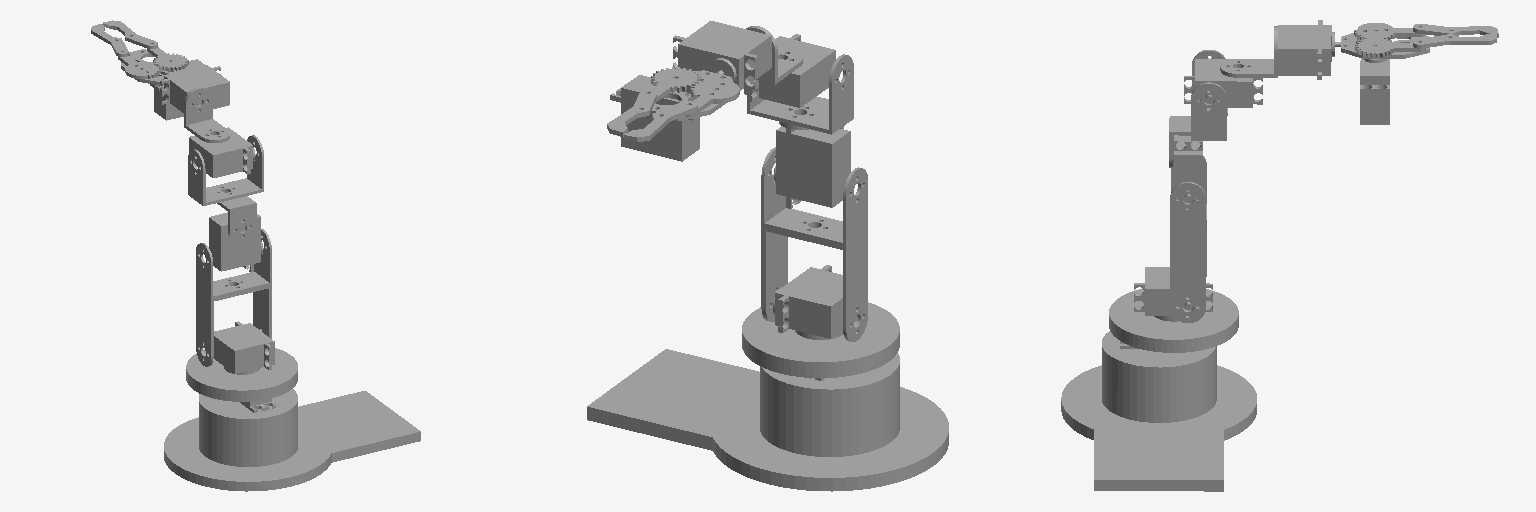
--- Facts derived from the render (not from the file) ---
The picture shows the robot from 3 angles, left to right: view 1: azimuth 30°, elevation 25°; view 2: azimuth 150°, elevation 25°; view 3: azimuth 270°, elevation 25°; orthographic projection.
Model rbmuse with 18 links and 17 joints (7 revolute, 10 fixed), rooted at base_link, posed all joints at 0.
Visible links, largest first — view 1: base_link, disk_1, motor2_1, smallu1_1, smallu_1, bigu_1, motor3_1, motor5_1, motor4_1, lshape2_1, lshape_1, motor6_1 (+3 smaller); view 2: base_link, disk_1, motor3_1, bigu_1, smallu_1, motor5_1, motor2_1, smallu1_1, motor4_1, motor6_1, glinkl_1, lshape2_1 (+4 smaller); view 3: base_link, disk_1, motor5_1, bigu_1, smallu1_1, smallu_1, motor4_1, motor6_1, motor2_1, motor3_1, lshape2_1, glinkr_1 (+5 smaller).
Boxes of the visible links, bbox=[...] form: base_link: bbox=[164, 389, 420, 491]; disk_1: bbox=[186, 348, 297, 401]; motor2_1: bbox=[213, 321, 274, 373]; smallu1_1: bbox=[188, 135, 263, 205]; smallu_1: bbox=[196, 229, 271, 299]; bigu_1: bbox=[196, 285, 271, 366]; motor3_1: bbox=[209, 212, 262, 272]; motor5_1: bbox=[160, 65, 229, 112]; motor4_1: bbox=[189, 127, 254, 177]; lshape2_1: bbox=[184, 87, 229, 142]; lshape_1: bbox=[217, 191, 256, 242]; motor6_1: bbox=[150, 59, 205, 120]; base_link: bbox=[587, 349, 948, 491]; disk_1: bbox=[742, 302, 899, 377]; motor3_1: bbox=[774, 126, 850, 208]; bigu_1: bbox=[761, 226, 867, 341]; smallu_1: bbox=[761, 147, 867, 247]; motor5_1: bbox=[673, 21, 771, 90]; motor2_1: bbox=[773, 265, 857, 338]; smallu1_1: bbox=[747, 54, 853, 134]; motor4_1: bbox=[744, 34, 835, 107]; motor6_1: bbox=[610, 75, 699, 161]; glinkl_1: bbox=[686, 78, 739, 116]; lshape2_1: bbox=[746, 26, 802, 84]; base_link: bbox=[1061, 331, 1256, 491]; disk_1: bbox=[1109, 289, 1238, 352]; motor5_1: bbox=[1278, 20, 1340, 79]; bigu_1: bbox=[1170, 224, 1206, 322]; smallu1_1: bbox=[1191, 50, 1227, 140]; smallu_1: bbox=[1170, 156, 1206, 240]; motor4_1: bbox=[1184, 59, 1262, 107]; motor6_1: bbox=[1360, 58, 1389, 124]; motor2_1: bbox=[1134, 267, 1212, 315]; motor3_1: bbox=[1173, 135, 1202, 208]; lshape2_1: bbox=[1220, 26, 1277, 77]; glinkr_1: bbox=[1355, 37, 1425, 57].
Bounding box of the posed robot: 0.202 × 0.3035 × 0.2926 m (x, y, z).
18 mesh visuals loaded from 18 distinct referenced files (18 binary STL).

URDF robot description (rbmuse):
<?xml version="1.0" ?>
<!-- =================================================================================== -->
<!-- |    This document was autogenerated by xacro from [local-path]/ws_moveit/src/rbmuse_description/urdf/rbmuse.xacro | -->
<!-- |    EDITING THIS FILE BY HAND IS NOT RECOMMENDED                                 | -->
<!-- =================================================================================== -->
<robot name="rbmuse">
    <material name="silver">
        <color rgba="0.700 0.700 0.700 1.000" />
    </material>
    <transmission name="Revolute 2_tran">
        <type>transmission_interface/SimpleTransmission</type>
        <joint name="Revolute 2">
            <hardwareInterface>hardware_interface/EffortJointInterface</hardwareInterface>
        </joint>
        <actuator name="Revolute 2_actr">
            <hardwareInterface>hardware_interface/EffortJointInterface</hardwareInterface>
            <mechanicalReduction>1</mechanicalReduction>
        </actuator>
    </transmission>
    <transmission name="Revolute 4_tran">
        <type>transmission_interface/SimpleTransmission</type>
        <joint name="Revolute 4">
            <hardwareInterface>hardware_interface/EffortJointInterface</hardwareInterface>
        </joint>
        <actuator name="Revolute 4_actr">
            <hardwareInterface>hardware_interface/EffortJointInterface</hardwareInterface>
            <mechanicalReduction>1</mechanicalReduction>
        </actuator>
    </transmission>
    <transmission name="Revolute 6_tran">
        <type>transmission_interface/SimpleTransmission</type>
        <joint name="Revolute 6">
            <hardwareInterface>hardware_interface/EffortJointInterface</hardwareInterface>
        </joint>
        <actuator name="Revolute 6_actr">
            <hardwareInterface>hardware_interface/EffortJointInterface</hardwareInterface>
            <mechanicalReduction>1</mechanicalReduction>
        </actuator>
    </transmission>
    <transmission name="Revolute 9_tran">
        <type>transmission_interface/SimpleTransmission</type>
        <joint name="Revolute 9">
            <hardwareInterface>hardware_interface/EffortJointInterface</hardwareInterface>
        </joint>
        <actuator name="Revolute 9_actr">
            <hardwareInterface>hardware_interface/EffortJointInterface</hardwareInterface>
            <mechanicalReduction>1</mechanicalReduction>
        </actuator>
    </transmission>
    <transmission name="Revolute 41_tran">
        <type>transmission_interface/SimpleTransmission</type>
        <joint name="Revolute 41">
            <hardwareInterface>hardware_interface/EffortJointInterface</hardwareInterface>
        </joint>
        <actuator name="Revolute 41_actr">
            <hardwareInterface>hardware_interface/EffortJointInterface</hardwareInterface>
            <mechanicalReduction>1</mechanicalReduction>
        </actuator>
    </transmission>
    <transmission name="Revolute 43_tran">
        <type>transmission_interface/SimpleTransmission</type>
        <joint name="Revolute 43">
            <hardwareInterface>hardware_interface/EffortJointInterface</hardwareInterface>
        </joint>
        <actuator name="Revolute 43_actr">
            <hardwareInterface>hardware_interface/EffortJointInterface</hardwareInterface>
            <mechanicalReduction>1</mechanicalReduction>
        </actuator>
    </transmission>
    <transmission name="Revolute 45_tran">
        <type>transmission_interface/SimpleTransmission</type>
        <joint name="Revolute 45">
            <hardwareInterface>hardware_interface/EffortJointInterface</hardwareInterface>
        </joint>
        <actuator name="Revolute 45_actr">
            <hardwareInterface>hardware_interface/EffortJointInterface</hardwareInterface>
            <mechanicalReduction>1</mechanicalReduction>
        </actuator>
    </transmission>
    <gazebo>
        <plugin filename="libgazebo_ros_control.so" name="control" />
        <plugin name="gazebo_ros_control">
            <robotNamespace>/</robotNamespace>
        </plugin>
    </gazebo>
    <gazebo reference="base_link">
        <material>Gazebo/Silver</material>
        <mu1>0.2</mu1>
        <mu2>0.2</mu2>
        <selfCollide>true</selfCollide>
        <gravity>true</gravity>
    </gazebo>
    <gazebo reference="motor1_1">
        <material>Gazebo/Silver</material>
        <mu1>0.2</mu1>
        <mu2>0.2</mu2>
        <selfCollide>true</selfCollide>
    </gazebo>
    <gazebo reference="disk_1">
        <material>Gazebo/Silver</material>
        <mu1>0.2</mu1>
        <mu2>0.2</mu2>
        <selfCollide>true</selfCollide>
    </gazebo>
    <gazebo reference="motor2_1">
        <material>Gazebo/Silver</material>
        <mu1>0.2</mu1>
        <mu2>0.2</mu2>
        <selfCollide>true</selfCollide>
    </gazebo>
    <gazebo reference="bigu_1">
        <material>Gazebo/Silver</material>
        <mu1>0.2</mu1>
        <mu2>0.2</mu2>
        <selfCollide>true</selfCollide>
    </gazebo>
    <gazebo reference="smallu_1">
        <material>Gazebo/Silver</material>
        <mu1>0.2</mu1>
        <mu2>0.2</mu2>
        <selfCollide>true</selfCollide>
    </gazebo>
    <gazebo reference="motor3_1">
        <material>Gazebo/Silver</material>
        <mu1>0.2</mu1>
        <mu2>0.2</mu2>
        <selfCollide>true</selfCollide>
    </gazebo>
    <gazebo reference="lshape_1">
        <material>Gazebo/Silver</material>
        <mu1>0.2</mu1>
        <mu2>0.2</mu2>
        <selfCollide>true</selfCollide>
    </gazebo>
    <gazebo reference="smallu1_1">
        <material>Gazebo/Silver</material>
        <mu1>0.2</mu1>
        <mu2>0.2</mu2>
        <selfCollide>true</selfCollide>
    </gazebo>
    <gazebo reference="motor4_1">
        <material>Gazebo/Silver</material>
        <mu1>0.2</mu1>
        <mu2>0.2</mu2>
        <selfCollide>true</selfCollide>
    </gazebo>
    <gazebo reference="lshape2_1">
        <material>Gazebo/Silver</material>
        <mu1>0.2</mu1>
        <mu2>0.2</mu2>
        <selfCollide>true</selfCollide>
    </gazebo>
    <gazebo reference="motor5_1">
        <material>Gazebo/Silver</material>
        <mu1>0.2</mu1>
        <mu2>0.2</mu2>
        <selfCollide>true</selfCollide>
    </gazebo>
    <gazebo reference="gbase_1">
        <material>Gazebo/Silver</material>
        <mu1>0.2</mu1>
        <mu2>0.2</mu2>
        <selfCollide>true</selfCollide>
    </gazebo>
    <gazebo reference="motor6_1">
        <material>Gazebo/Silver</material>
        <mu1>0.2</mu1>
        <mu2>0.2</mu2>
        <selfCollide>true</selfCollide>
    </gazebo>
    <gazebo reference="glinkr_1">
        <material>Gazebo/Silver</material>
        <mu1>0.2</mu1>
        <mu2>0.2</mu2>
        <selfCollide>true</selfCollide>
    </gazebo>
    <gazebo reference="clawr_1">
        <material>Gazebo/Silver</material>
        <mu1>0.2</mu1>
        <mu2>0.2</mu2>
        <selfCollide>true</selfCollide>
    </gazebo>
    <gazebo reference="glinkl_1">
        <material>Gazebo/Silver</material>
        <mu1>0.2</mu1>
        <mu2>0.2</mu2>
        <selfCollide>true</selfCollide>
    </gazebo>
    <gazebo reference="clawl_1">
        <material>Gazebo/Silver</material>
        <mu1>0.2</mu1>
        <mu2>0.2</mu2>
        <selfCollide>true</selfCollide>
    </gazebo>
    <link name="base_link">
        <inertial>
            <origin rpy="0 0 0" xyz="-0.026168976468017534 -0.0005496586417581346 0.01778804529166589" />
            <mass value="3.0751047880633586" />
            <inertia ixx="0.002856" ixy="7e-06" ixz="0.000585" iyy="0.006289" iyz="-1e-06" izz="0.007631" />
        </inertial>
        <visual>
            <origin rpy="0 0 0" xyz="0 0 0" />
            <geometry>
                <mesh filename="package://rbmuse_description/meshes/base_link.stl" scale="0.001 0.001 0.001" />
            </geometry>
            <material name="silver" />
        </visual>
        <collision>
            <origin rpy="0 0 0" xyz="0 0 0" />
            <geometry>
                <mesh filename="package://rbmuse_description/meshes/base_link.stl" scale="0.001 0.001 0.001" />
            </geometry>
        </collision>
    </link>
    <link name="motor1_1">
        <inertial>
            <origin rpy="0 0 0" xyz="0.03930371256985485 0.0021696453874637547 -0.008593146614866543" />
            <mass value="0.24771286336269865" />
            <inertia ixx="6.4e-05" ixy="-0.0" ixz="-0.0" iyy="3.8e-05" iyz="-1e-06" izz="4.3e-05" />
        </inertial>
        <visual>
            <origin rpy="0 0 0" xyz="0.079145 0.00249 -0.050267" />
            <geometry>
                <mesh filename="package://rbmuse_description/meshes/motor1_1.stl" scale="0.001 0.001 0.001" />
            </geometry>
            <material name="silver" />
        </visual>
        <collision>
            <origin rpy="0 0 0" xyz="0.079145 0.00249 -0.050267" />
            <geometry>
                <mesh filename="package://rbmuse_description/meshes/motor1_1.stl" scale="0.001 0.001 0.001" />
            </geometry>
        </collision>
    </link>
    <link name="disk_1">
        <inertial>
            <origin rpy="0 0 0" xyz="3.492033330554367e-07 9.747354081292986e-07 0.005492676065882121" />
            <mass value="0.5311101141935193" />
            <inertia ixx="0.000261" ixy="0.0" ixz="0.0" iyy="0.000261" iyz="0.0" izz="0.000509" />
        </inertial>
        <visual>
            <origin rpy="0 0 0" xyz="0.039762 -0.009587 -0.06413" />
            <geometry>
                <mesh filename="package://rbmuse_description/meshes/disk_1.stl" scale="0.001 0.001 0.001" />
            </geometry>
            <material name="silver" />
        </visual>
        <collision>
            <origin rpy="0 0 0" xyz="0.039762 -0.009587 -0.06413" />
            <geometry>
                <mesh filename="package://rbmuse_description/meshes/disk_1.stl" scale="0.001 0.001 0.001" />
            </geometry>
        </collision>
    </link>
    <link name="motor2_1">
        <inertial>
            <origin rpy="0 0 0" xyz="0.0005432628975196307 0.00019610580267081373 0.0102500382122543" />
            <mass value="0.24771286336269865" />
            <inertia ixx="4.3e-05" ixy="-1e-06" ixz="0.0" iyy="3.8e-05" iyz="0.0" izz="6.4e-05" />
        </inertial>
        <visual>
            <origin rpy="0 0 0" xyz="0.039761 -0.00959 -0.08013" />
            <geometry>
                <mesh filename="package://rbmuse_description/meshes/motor2_1.stl" scale="0.001 0.001 0.001" />
            </geometry>
            <material name="silver" />
        </visual>
        <collision>
            <origin rpy="0 0 0" xyz="0.039761 -0.00959 -0.08013" />
            <geometry>
                <mesh filename="package://rbmuse_description/meshes/motor2_1.stl" scale="0.001 0.001 0.001" />
            </geometry>
        </collision>
    </link>
    <link name="bigu_1">
        <inertial>
            <origin rpy="0 0 0" xyz="-0.02199563550171054 0.0001809953785818011 0.028905156107693994" />
            <mass value="0.0784222615280103" />
            <inertia ixx="3.4e-05" ixy="0.0" ixz="2e-06" iyy="7.5e-05" iyz="-0.0" izz="5e-05" />
        </inertial>
        <visual>
            <origin rpy="0 0 0" xyz="0.016681 -0.01951 -0.090377" />
            <geometry>
                <mesh filename="package://rbmuse_description/meshes/bigu_1.stl" scale="0.001 0.001 0.001" />
            </geometry>
            <material name="silver" />
        </visual>
        <collision>
            <origin rpy="0 0 0" xyz="0.016681 -0.01951 -0.090377" />
            <geometry>
                <mesh filename="package://rbmuse_description/meshes/bigu_1.stl" scale="0.001 0.001 0.001" />
            </geometry>
        </collision>
    </link>
    <link name="smallu_1">
        <inertial>
            <origin rpy="0 0 0" xyz="9.380930374724983e-07 2.4460137672752125e-06 0.011594145388475141" />
            <mass value="0.05393922534960198" />
            <inertia ixx="1.2e-05" ixy="0.0" ixz="0.0" iyy="3.7e-05" iyz="-0.0" izz="3e-05" />
        </inertial>
        <visual>
            <origin rpy="0 0 0" xyz="0.041679 -0.01972 -0.141378" />
            <geometry>
                <mesh filename="package://rbmuse_description/meshes/smallu_1.stl" scale="0.001 0.001 0.001" />
            </geometry>
            <material name="silver" />
        </visual>
        <collision>
            <origin rpy="0 0 0" xyz="0.041679 -0.01972 -0.141378" />
            <geometry>
                <mesh filename="package://rbmuse_description/meshes/smallu_1.stl" scale="0.001 0.001 0.001" />
            </geometry>
        </collision>
    </link>
    <link name="motor3_1">
        <inertial>
            <origin rpy="0 0 0" xyz="-0.024457366779002194 0.00019600493077282302 0.009903111346328625" />
            <mass value="0.24771286336269865" />
            <inertia ixx="4.3e-05" ixy="0.0" ixz="1e-06" iyy="6.4e-05" iyz="-0.0" izz="3.8e-05" />
        </inertial>
        <visual>
            <origin rpy="0 0 0" xyz="0.015678 -0.019521 -0.172877" />
            <geometry>
                <mesh filename="package://rbmuse_description/meshes/motor3_1.stl" scale="0.001 0.001 0.001" />
            </geometry>
            <material name="silver" />
        </visual>
        <collision>
            <origin rpy="0 0 0" xyz="0.015678 -0.019521 -0.172877" />
            <geometry>
                <mesh filename="package://rbmuse_description/meshes/motor3_1.stl" scale="0.001 0.001 0.001" />
            </geometry>
        </collision>
    </link>
    <link name="lshape_1">
        <inertial>
            <origin rpy="0 0 0" xyz="-0.1647141046884117 -0.051643015147499916 0.036814200251928664" />
            <mass value="0.03417797904336539" />
            <inertia ixx="7e-06" ixy="-0.0" ixz="-0.0" iyy="5e-06" iyz="-2e-06" izz="7e-06" />
        </inertial>
        <visual>
            <origin rpy="0 0 0" xyz="-0.124023 -0.069424 -0.173711" />
            <geometry>
                <mesh filename="package://rbmuse_description/meshes/lshape_1.stl" scale="0.001 0.001 0.001" />
            </geometry>
            <material name="silver" />
        </visual>
        <collision>
            <origin rpy="0 0 0" xyz="-0.124023 -0.069424 -0.173711" />
            <geometry>
                <mesh filename="package://rbmuse_description/meshes/lshape_1.stl" scale="0.001 0.001 0.001" />
            </geometry>
        </collision>
    </link>
    <link name="smallu1_1">
        <inertial>
            <origin rpy="0 0 0" xyz="6.186610709002505e-07 2.474644159582151e-06 0.011593815204141433" />
            <mass value="0.05393922534960198" />
            <inertia ixx="1.2e-05" ixy="0.0" ixz="0.0" iyy="3.7e-05" iyz="-0.0" izz="3e-05" />
        </inertial>
        <visual>
            <origin rpy="0 0 0" xyz="0.040561 -0.034179 -0.217975" />
            <geometry>
                <mesh filename="package://rbmuse_description/meshes/smallu1_1.stl" scale="0.001 0.001 0.001" />
            </geometry>
            <material name="silver" />
        </visual>
        <collision>
            <origin rpy="0 0 0" xyz="0.040561 -0.034179 -0.217975" />
            <geometry>
                <mesh filename="package://rbmuse_description/meshes/smallu1_1.stl" scale="0.001 0.001 0.001" />
            </geometry>
        </collision>
    </link>
    <link name="motor4_1">
        <inertial>
            <origin rpy="0 0 0" xyz="-0.024379636684416315 0.010095761121906667 -1.7608738211438713e-06" />
            <mass value="0.24771286336269865" />
            <inertia ixx="4.3e-05" ixy="1e-06" ixz="0.0" iyy="3.8e-05" iyz="0.0" izz="6.4e-05" />
        </inertial>
        <visual>
            <origin rpy="0 0 0" xyz="0.01456 -0.03398 -0.249474" />
            <geometry>
                <mesh filename="package://rbmuse_description/meshes/motor4_1.stl" scale="0.001 0.001 0.001" />
            </geometry>
            <material name="silver" />
        </visual>
        <collision>
            <origin rpy="0 0 0" xyz="0.01456 -0.03398 -0.249474" />
            <geometry>
                <mesh filename="package://rbmuse_description/meshes/motor4_1.stl" scale="0.001 0.001 0.001" />
            </geometry>
        </collision>
    </link>
    <link name="lshape2_1">
        <inertial>
            <origin rpy="0 0 0" xyz="-0.24047463918656625 0.07237662687230707 0.06742629492159574" />
            <mass value="0.03417797904336539" />
            <inertia ixx="7e-06" ixy="-0.0" ixz="-0.0" iyy="5e-06" iyz="-2e-06" izz="7e-06" />
        </inertial>
        <visual>
            <origin rpy="0 0 0" xyz="-0.201205 0.001699 -0.199743" />
            <geometry>
                <mesh filename="package://rbmuse_description/meshes/lshape2_1.stl" scale="0.001 0.001 0.001" />
            </geometry>
            <material name="silver" />
        </visual>
        <collision>
            <origin rpy="0 0 0" xyz="-0.201205 0.001699 -0.199743" />
            <geometry>
                <mesh filename="package://rbmuse_description/meshes/lshape2_1.stl" scale="0.001 0.001 0.001" />
            </geometry>
        </collision>
    </link>
    <link name="motor5_1">
        <inertial>
            <origin rpy="0 0 0" xyz="0.08165331636898154 0.2981306692560505 0.059107909660422175" />
            <mass value="0.24771286336269865" />
            <inertia ixx="3.8e-05" ixy="1e-06" ixz="0.0" iyy="4.3e-05" iyz="0.0" izz="6.4e-05" />
        </inertial>
        <visual>
            <origin rpy="0 0 0" xyz="0.11088 0.197184 -0.220601" />
            <geometry>
                <mesh filename="package://rbmuse_description/meshes/motor5_1.stl" scale="0.001 0.001 0.001" />
            </geometry>
            <material name="silver" />
        </visual>
        <collision>
            <origin rpy="0 0 0" xyz="0.11088 0.197184 -0.220601" />
            <geometry>
                <mesh filename="package://rbmuse_description/meshes/motor5_1.stl" scale="0.001 0.001 0.001" />
            </geometry>
        </collision>
    </link>
    <link name="gbase_1">
        <inertial>
            <origin rpy="0 0 0" xyz="-0.0008440157289839254 0.030131425640598536 -7.070589467750299e-06" />
            <mass value="0.03250334179699039" />
            <inertia ixx="1.1e-05" ixy="0.0" ixz="0.0" iyy="5e-06" iyz="0.0" izz="1.5e-05" />
        </inertial>
        <visual>
            <origin rpy="0 0 0" xyz="0.038935 -0.125483 -0.279704" />
            <geometry>
                <mesh filename="package://rbmuse_description/meshes/gbase_1.stl" scale="0.001 0.001 0.001" />
            </geometry>
            <material name="silver" />
        </visual>
        <collision>
            <origin rpy="0 0 0" xyz="0.038935 -0.125483 -0.279704" />
            <geometry>
                <mesh filename="package://rbmuse_description/meshes/gbase_1.stl" scale="0.001 0.001 0.001" />
            </geometry>
        </collision>
    </link>
    <link name="motor6_1">
        <inertial>
            <origin rpy="0 0 0" xyz="0.04631958605241957 -0.288594688666587 0.12592984428841508" />
            <mass value="0.24771286336269865" />
            <inertia ixx="3.8e-05" ixy="0.0" ixz="1e-06" iyy="6.4e-05" iyz="-0.0" izz="4.3e-05" />
        </inertial>
        <visual>
            <origin rpy="0 0 0" xyz="0.061616 -0.437836 -0.131809" />
            <geometry>
                <mesh filename="package://rbmuse_description/meshes/motor6_1.stl" scale="0.001 0.001 0.001" />
            </geometry>
            <material name="silver" />
        </visual>
        <collision>
            <origin rpy="0 0 0" xyz="0.061616 -0.437836 -0.131809" />
            <geometry>
                <mesh filename="package://rbmuse_description/meshes/motor6_1.stl" scale="0.001 0.001 0.001" />
            </geometry>
        </collision>
    </link>
    <link name="glinkr_1">
        <inertial>
            <origin rpy="0 0 0" xyz="4.3168479621557426e-05 0.005489355444972671 0.0014984981238657658" />
            <mass value="0.01630298468358439" />
            <inertia ixx="2e-06" ixy="-0.0" ixz="0.0" iyy="1e-06" iyz="0.0" izz="3e-06" />
        </inertial>
        <visual>
            <origin rpy="0 0 0" xyz="0.025197 -0.149325 -0.282198" />
            <geometry>
                <mesh filename="package://rbmuse_description/meshes/glinkr_1.stl" scale="0.001 0.001 0.001" />
            </geometry>
            <material name="silver" />
        </visual>
        <collision>
            <origin rpy="0 0 0" xyz="0.025197 -0.149325 -0.282198" />
            <geometry>
                <mesh filename="package://rbmuse_description/meshes/glinkr_1.stl" scale="0.001 0.001 0.001" />
            </geometry>
        </collision>
    </link>
    <link name="clawr_1">
        <inertial>
            <origin rpy="0 0 0" xyz="-0.0047623050914065435 0.024422750111204483 0.0014943425639101782" />
            <mass value="0.012557670523597225" />
            <inertia ixx="4e-06" ixy="0.0" ixz="-0.0" iyy="0.0" iyz="0.0" izz="4e-06" />
        </inertial>
        <visual>
            <origin rpy="0 0 0" xyz="0.024952 -0.180325 -0.285191" />
            <geometry>
                <mesh filename="package://rbmuse_description/meshes/clawr_1.stl" scale="0.001 0.001 0.001" />
            </geometry>
            <material name="silver" />
        </visual>
        <collision>
            <origin rpy="0 0 0" xyz="0.024952 -0.180325 -0.285191" />
            <geometry>
                <mesh filename="package://rbmuse_description/meshes/clawr_1.stl" scale="0.001 0.001 0.001" />
            </geometry>
        </collision>
    </link>
    <link name="glinkl_1">
        <inertial>
            <origin rpy="0 0 0" xyz="0.0004973925200013815 0.005155127642888696 0.001498638427966159" />
            <mass value="0.01672496232433782" />
            <inertia ixx="2e-06" ixy="0.0" ixz="0.0" iyy="1e-06" iyz="0.0" izz="3e-06" />
        </inertial>
        <visual>
            <origin rpy="0 0 0" xyz="0.052197 -0.149539 -0.281199" />
            <geometry>
                <mesh filename="package://rbmuse_description/meshes/glinkl_1.stl" scale="0.001 0.001 0.001" />
            </geometry>
            <material name="silver" />
        </visual>
        <collision>
            <origin rpy="0 0 0" xyz="0.052197 -0.149539 -0.281199" />
            <geometry>
                <mesh filename="package://rbmuse_description/meshes/glinkl_1.stl" scale="0.001 0.001 0.001" />
            </geometry>
        </collision>
    </link>
    <link name="clawl_1">
        <inertial>
            <origin rpy="0 0 0" xyz="0.0036533334329303183 0.02461343385388537 0.0014940341220606168" />
            <mass value="0.012557670523597225" />
            <inertia ixx="4e-06" ixy="-0.0" ixz="0.0" iyy="0.0" iyz="0.0" izz="4e-06" />
        </inertial>
        <visual>
            <origin rpy="0 0 0" xyz="0.051996 -0.180528 -0.284192" />
            <geometry>
                <mesh filename="package://rbmuse_description/meshes/clawl_1.stl" scale="0.001 0.001 0.001" />
            </geometry>
            <material name="silver" />
        </visual>
        <collision>
            <origin rpy="0 0 0" xyz="0.051996 -0.180528 -0.284192" />
            <geometry>
                <mesh filename="package://rbmuse_description/meshes/clawl_1.stl" scale="0.001 0.001 0.001" />
            </geometry>
        </collision>
    </link>
    <joint name="Rigid1" type="fixed">
        <origin rpy="0 0 0" xyz="-0.079145 -0.00249 0.050267" />
        <parent link="base_link" />
        <child link="motor1_1" />
    </joint>
    <joint name="Revolute2" type="revolute">
        <origin rpy="0 0 0" xyz="0.039383 0.012077 0.013863" />
        <parent link="motor1_1" />
        <child link="disk_1" />
        <axis xyz="4.2e-05 0.000227 1.0" />
        <limit effort="100" lower="0.0" upper="3.141593" velocity="100" />
    </joint>
    <joint name="Rigid3" type="fixed">
        <origin rpy="0 0 0" xyz="1e-06 3e-06 0.016" />
        <parent link="disk_1" />
        <child link="motor2_1" />
    </joint>
    <joint name="Revolute4" type="revolute">
        <origin rpy="0 0 0" xyz="0.02308 0.00992 0.010247" />
        <parent link="motor2_1" />
        <child link="bigu_1" />
        <axis xyz="0.999969 -0.007924 -4e-05" />
        <limit effort="100" lower="-1.396263" upper="0.0" velocity="100" />
    </joint>
    <joint name="Rigid5" type="fixed">
        <origin rpy="0 0 0" xyz="-0.024998 0.00021 0.051001" />
        <parent link="bigu_1" />
        <child link="smallu_1" />
    </joint>
    <joint name="Revolute6" type="revolute">
        <origin rpy="0 0 0" xyz="0.026001 -0.000199 0.031499" />
        <parent link="smallu_1" />
        <child link="motor3_1" />
        <axis xyz="0.999969 -0.007924 -4e-05" />
        <limit effort="100" lower="0.0" upper="1.396263" velocity="100" />
    </joint>
    <joint name="Rigid7" type="fixed">
        <origin rpy="0 0 0" xyz="0.139701 0.049903 0.000834" />
        <parent link="motor3_1" />
        <child link="lshape_1" />
    </joint>
    <joint name="Rigid8" type="fixed">
        <origin rpy="0 0 0" xyz="-0.164584 -0.035245 0.044264" />
        <parent link="lshape_1" />
        <child link="smallu1_1" />
    </joint>
    <joint name="Revolute9" type="revolute">
        <origin rpy="0 0 0" xyz="0.026001 -0.000199 0.031499" />
        <parent link="smallu1_1" />
        <child link="motor4_1" />
        <axis xyz="0.999969 -0.007924 -4e-05" />
        <limit effort="100" lower="-0.349066" upper="0.0" velocity="100" />
    </joint>
    <joint name="Rigid39" type="fixed">
        <origin rpy="0 0 0" xyz="0.215765 -0.035679 -0.049731" />
        <parent link="motor4_1" />
        <child link="lshape2_1" />
    </joint>
    <joint name="Rigid40" type="fixed">
        <origin rpy="0 0 0" xyz="-0.312085 -0.195485 0.020858" />
        <parent link="lshape2_1" />
        <child link="motor5_1" />
    </joint>
    <joint name="Revolute41" type="revolute">
        <origin rpy="0 0 0" xyz="0.071945 0.322667 0.059103" />
        <parent link="motor5_1" />
        <child link="gbase_1" />
        <axis xyz="0.007924 0.999969 -0.000228" />
        <limit effort="100" lower="-0.349066" upper="0.0" velocity="100" />
    </joint>
    <joint name="Rigid42" type="fixed">
        <origin rpy="0 0 0" xyz="-0.022681 0.312353 -0.147895" />
        <parent link="gbase_1" />
        <child link="motor6_1" />
    </joint>
    <joint name="Revolute43" type="revolute">
        <origin rpy="0 0 0" xyz="0.036419 -0.288511 0.150389" />
        <parent link="motor6_1" />
        <child link="glinkr_1" />
        <axis xyz="4.2e-05 0.000227 1.0" />
        <limit effort="100" lower="-1.047198" upper="0.0" velocity="100" />
    </joint>
    <joint name="Rigid44" type="fixed">
        <origin rpy="0 0 0" xyz="0.000245 0.031 0.002993" />
        <parent link="glinkr_1" />
        <child link="clawr_1" />
    </joint>
    <joint name="Revolute45" type="revolute">
        <origin rpy="0 0 0" xyz="-0.013262 0.024056 0.001495" />
        <parent link="gbase_1" />
        <child link="glinkl_1" />
        <axis xyz="4.2e-05 0.000227 1.0" />
        <limit effort="100" lower="0.0" upper="-1.047198" velocity="100" />
        <mimic joint="Revolute43" multiplier="-1" offset="0" />
    </joint>
    <joint name="Rigid46" type="fixed">
        <origin rpy="0 0 0" xyz="0.000201 0.030989 0.002993" />
        <parent link="glinkl_1" />
        <child link="clawl_1" />
    </joint>
    <transmission name="trans_Revolute2">
        <type>transmission_interface/SimpleTransmission</type>
        <joint name="Revolute2">
            <hardwareInterface>hardware_interface/EffortJointInterface</hardwareInterface>
        </joint>
        <actuator name="Revolute2_motor">
            <hardwareInterface>hardware_interface/EffortJointInterface</hardwareInterface>
            <mechanicalReduction>1</mechanicalReduction>
        </actuator>
    </transmission>
    <transmission name="trans_Revolute4">
        <type>transmission_interface/SimpleTransmission</type>
        <joint name="Revolute4">
            <hardwareInterface>hardware_interface/EffortJointInterface</hardwareInterface>
        </joint>
        <actuator name="Revolute4_motor">
            <hardwareInterface>hardware_interface/EffortJointInterface</hardwareInterface>
            <mechanicalReduction>1</mechanicalReduction>
        </actuator>
    </transmission>
    <transmission name="trans_Revolute6">
        <type>transmission_interface/SimpleTransmission</type>
        <joint name="Revolute6">
            <hardwareInterface>hardware_interface/EffortJointInterface</hardwareInterface>
        </joint>
        <actuator name="Revolute6_motor">
            <hardwareInterface>hardware_interface/EffortJointInterface</hardwareInterface>
            <mechanicalReduction>1</mechanicalReduction>
        </actuator>
    </transmission>
    <transmission name="trans_Revolute9">
        <type>transmission_interface/SimpleTransmission</type>
        <joint name="Revolute9">
            <hardwareInterface>hardware_interface/EffortJointInterface</hardwareInterface>
        </joint>
        <actuator name="Revolute9_motor">
            <hardwareInterface>hardware_interface/EffortJointInterface</hardwareInterface>
            <mechanicalReduction>1</mechanicalReduction>
        </actuator>
    </transmission>
    <transmission name="trans_Revolute41">
        <type>transmission_interface/SimpleTransmission</type>
        <joint name="Revolute41">
            <hardwareInterface>hardware_interface/EffortJointInterface</hardwareInterface>
        </joint>
        <actuator name="Revolute41_motor">
            <hardwareInterface>hardware_interface/EffortJointInterface</hardwareInterface>
            <mechanicalReduction>1</mechanicalReduction>
        </actuator>
    </transmission>
    <transmission name="trans_Revolute43">
        <type>transmission_interface/SimpleTransmission</type>
        <joint name="Revolute43">
            <hardwareInterface>hardware_interface/EffortJointInterface</hardwareInterface>
        </joint>
        <actuator name="Revolute43_motor">
            <hardwareInterface>hardware_interface/EffortJointInterface</hardwareInterface>
            <mechanicalReduction>1</mechanicalReduction>
        </actuator>
    </transmission>
    <transmission name="trans_Revolute45">
        <type>transmission_interface/SimpleTransmission</type>
        <joint name="Revolute45">
            <hardwareInterface>hardware_interface/EffortJointInterface</hardwareInterface>
        </joint>
        <actuator name="Revolute45_motor">
            <hardwareInterface>hardware_interface/EffortJointInterface</hardwareInterface>
            <mechanicalReduction>1</mechanicalReduction>
        </actuator>
    </transmission>
</robot>
